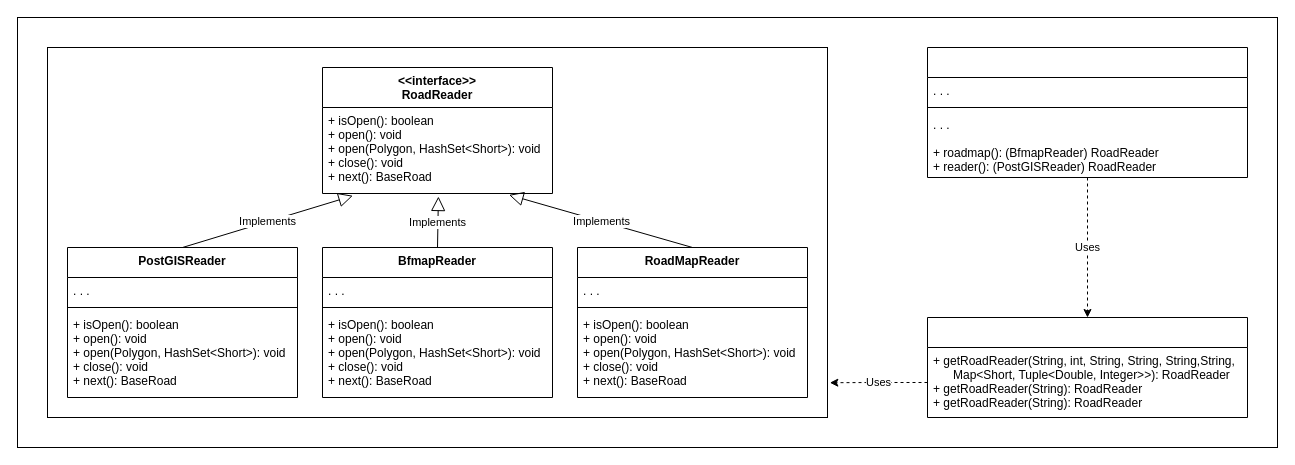
This 1295x465 diagram has some shape labels left out. The shapes that lost their labels are listed below. From the top down, each one's box as (x1, y1, x2, y2) in pixels, then its label:
(926, 46, 1248, 178): Loader
(926, 316, 1248, 418): RoadReaderFactory
